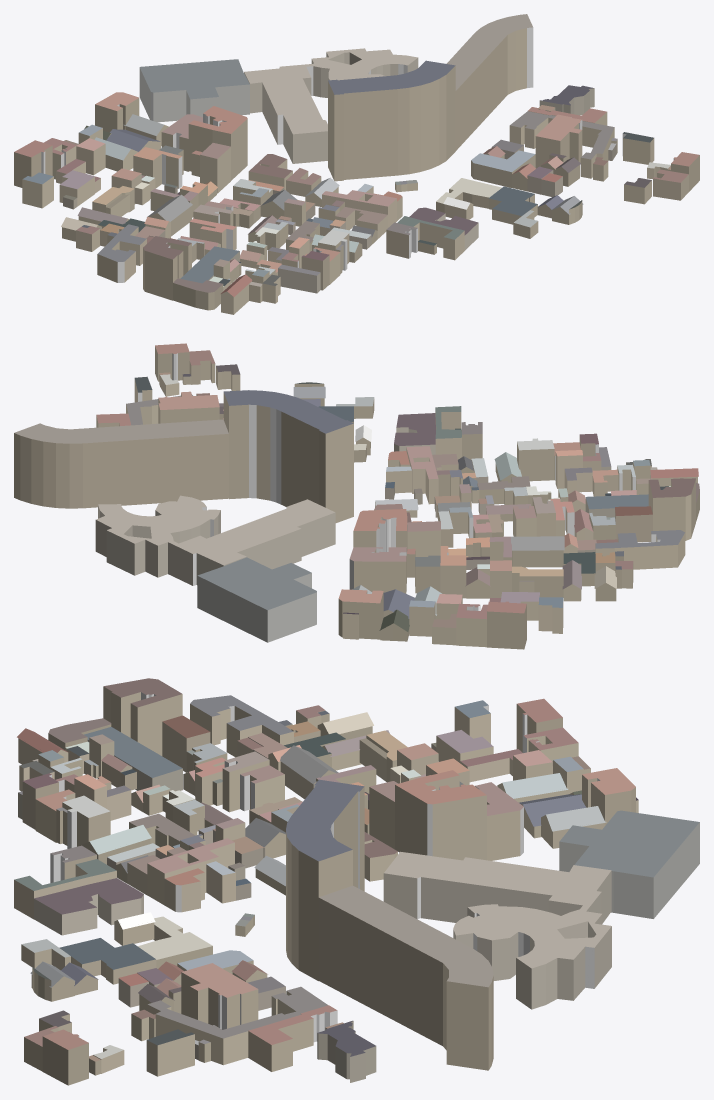
3 renders of one model, top to bottom at view 1: azimuth 30°, elevation 25°; view 2: azimuth 150°, elevation 25°; view 3: azimuth 270°, elevation 25°, orthographic. The views are drawn at different scales.
Visible parts, largest first — view 1: tuile; view 2: tuile; view 3: tuile.
Part boxes in pixels (<box>): tuile: <box>14,14,699,314</box>; tuile: <box>14,343,699,649</box>; tuile: <box>14,678,699,1085</box>.
Size of the model in its own units: 263 by 42.43 by 207.
